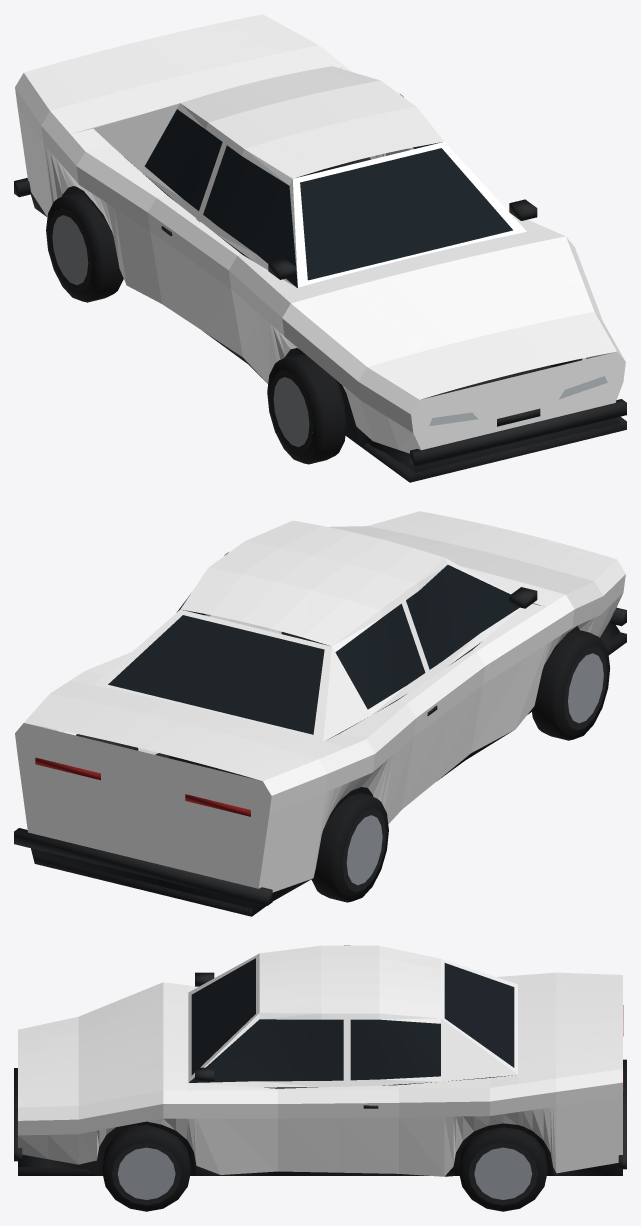
File: vallon_sarga.glb
3 views of the same model, one above another, from view 1: azimuth 30°, elevation 25°; view 2: azimuth 150°, elevation 25°; view 3: azimuth 270°, elevation 25° (orthographic). The views are drawn at different scales.
Parts seen in each view (by area): view 1: Body_Paint, Body_Details, Mount_FrontLeft_Wheel_Details, Mount_RearLeft_Wheel_Details; view 2: Body_Paint, Body_Details, Mount_FrontLeft_Wheel_Details, Mount_RearLeft_Wheel_Details; view 3: Body_Paint, Body_Details, Mount_FrontRight_Wheel_Details, Mount_RearRight_Wheel_Details.
Part boxes in pixels (x1,y1,x2,y2): Body_Paint: (15, 14, 625, 453); Body_Details: (14, 109, 626, 482); Mount_FrontLeft_Wheel_Details: (267, 354, 346, 464); Mount_RearLeft_Wheel_Details: (46, 192, 123, 302); Body_Paint: (15, 511, 625, 892); Body_Details: (14, 565, 626, 916); Mount_FrontLeft_Wheel_Details: (531, 628, 610, 740); Mount_RearLeft_Wheel_Details: (311, 792, 388, 902); Body_Paint: (18, 945, 622, 1176); Body_Details: (14, 958, 626, 1176); Mount_FrontRight_Wheel_Details: (102, 1125, 191, 1211); Mount_RearRight_Wheel_Details: (458, 1127, 547, 1211).
Bounding box in the file's own units: 1.87 × 1.33 × 4.12.
Materials: 2 (1 with a texture image).
